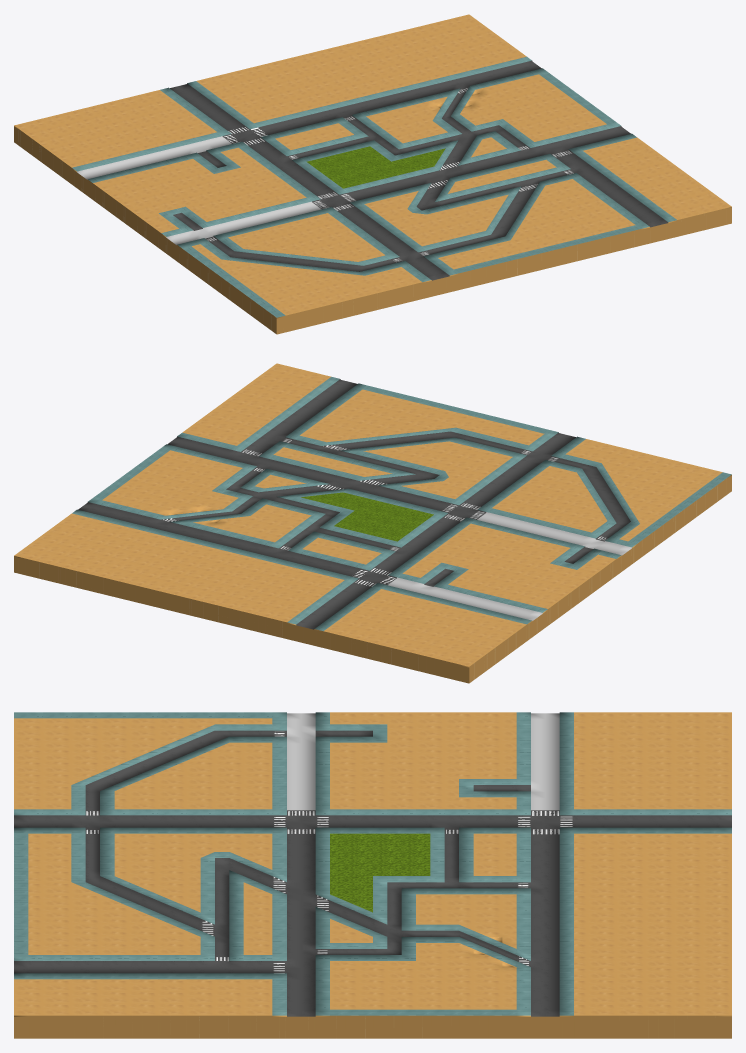
The model's file is map_test1.fbx.
3 views of the same model, one above another, from view 1: azimuth 30°, elevation 25°; view 2: azimuth 150°, elevation 25°; view 3: azimuth 270°, elevation 25° (orthographic). The views are drawn at different scales.
Visible parts, largest first — view 1: pCube25.001; view 2: pCube25.001; view 3: pCube25.001.
Part boxes in pixels (bbox=[...]): pCube25.001: bbox=[14, 14, 731, 334]; pCube25.001: bbox=[14, 363, 731, 683]; pCube25.001: bbox=[14, 712, 731, 1038].
Bounding box in the file's own units: 19583 × 691 × 19583.
